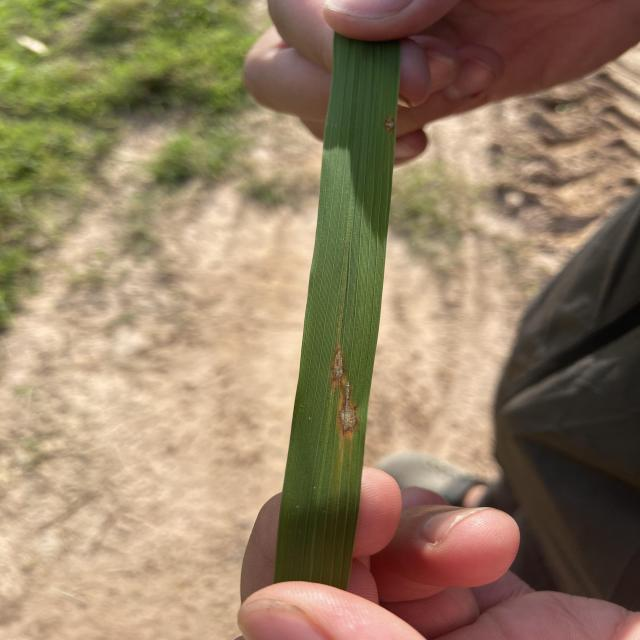Dao on: (339, 382, 357, 433), (332, 348, 343, 383), (385, 118, 395, 130)
